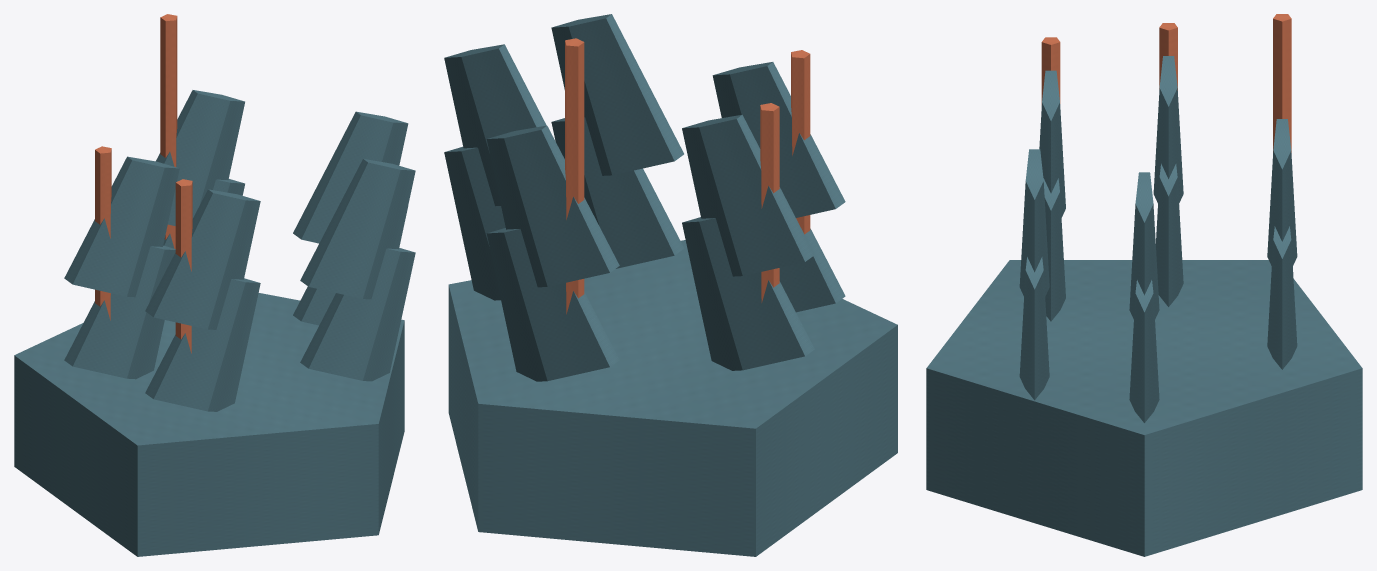
Rendered from atlas100-s041-a12.lod1.glb.
3 renders of one model, left to right at view 1: azimuth 30°, elevation 25°; view 2: azimuth 150°, elevation 25°; view 3: azimuth 270°, elevation 25°, orthographic. The views are drawn at different scales.
Visible parts, largest first — view 1: atlas100-s041-a12:part-000, atlas100-s041-a12:part-012, atlas100-s041-a12:part-006, atlas100-s041-a12:part-015, atlas100-s041-a12:part-011, atlas100-s041-a12:part-005, atlas100-s041-a12:part-014, atlas100-s041-a12:part-009, atlas100-s041-a12:part-003, atlas100-s041-a12:part-007, atlas100-s041-a12:part-004, atlas100-s041-a12:part-013 (+2 smaller); view 2: atlas100-s041-a12:part-000, atlas100-s041-a12:part-015, atlas100-s041-a12:part-009, atlas100-s041-a12:part-012, atlas100-s041-a12:part-014, atlas100-s041-a12:part-008, atlas100-s041-a12:part-006, atlas100-s041-a12:part-003, atlas100-s041-a12:part-011, atlas100-s041-a12:part-002, atlas100-s041-a12:part-007, atlas100-s041-a12:part-005 (+2 smaller); view 3: atlas100-s041-a12:part-000, atlas100-s041-a12:part-008, atlas100-s041-a12:part-002, atlas100-s041-a12:part-011, atlas100-s041-a12:part-014, atlas100-s041-a12:part-003, atlas100-s041-a12:part-015, atlas100-s041-a12:part-012, atlas100-s041-a12:part-009, atlas100-s041-a12:part-006, atlas100-s041-a12:part-005, atlas100-s041-a12:part-007 (+2 smaller).
Boxes of the visible parts, x1,y1,x2,y2 form: atlas100-s041-a12:part-000: (14,293,404,556); atlas100-s041-a12:part-012: (300,159,415,299); atlas100-s041-a12:part-006: (145,189,260,329); atlas100-s041-a12:part-015: (64,156,179,297); atlas100-s041-a12:part-011: (300,247,415,381); atlas100-s041-a12:part-005: (145,278,260,411); atlas100-s041-a12:part-014: (64,245,175,379); atlas100-s041-a12:part-009: (156,90,244,225); atlas100-s041-a12:part-003: (293,111,408,243); atlas100-s041-a12:part-007: (160,14,177,248); atlas100-s041-a12:part-004: (175,179,192,353); atlas100-s041-a12:part-013: (95,146,111,320); atlas100-s041-a12:part-000: (448,240,897,556); atlas100-s041-a12:part-015: (682,114,814,276); atlas100-s041-a12:part-009: (486,125,619,287); atlas100-s041-a12:part-012: (551,14,683,175); atlas100-s041-a12:part-014: (682,217,814,370); atlas100-s041-a12:part-008: (486,228,619,381); atlas100-s041-a12:part-006: (712,62,845,217); atlas100-s041-a12:part-003: (444,44,546,206); atlas100-s041-a12:part-011: (551,117,684,268); atlas100-s041-a12:part-002: (444,146,505,300); atlas100-s041-a12:part-007: (565,38,584,314); atlas100-s041-a12:part-005: (779,228,845,312); atlas100-s041-a12:part-000: (926,260,1362,556); atlas100-s041-a12:part-008: (1267,226,1297,369); atlas100-s041-a12:part-002: (1129,280,1159,422); atlas100-s041-a12:part-011: (1019,257,1049,400); atlas100-s041-a12:part-014: (1155,163,1183,306); atlas100-s041-a12:part-003: (1129,172,1159,319); atlas100-s041-a12:part-015: (1153,56,1183,203); atlas100-s041-a12:part-012: (1019,149,1049,296); atlas100-s041-a12:part-009: (1267,119,1297,265); atlas100-s041-a12:part-006: (1039,70,1065,217); atlas100-s041-a12:part-005: (1043,178,1065,321); atlas100-s041-a12:part-007: (1273,14,1291,152).
Bounding box in the file's own units: 1.06 × 1.25 × 1.1.
Materials: 2 (2 with a texture image).
